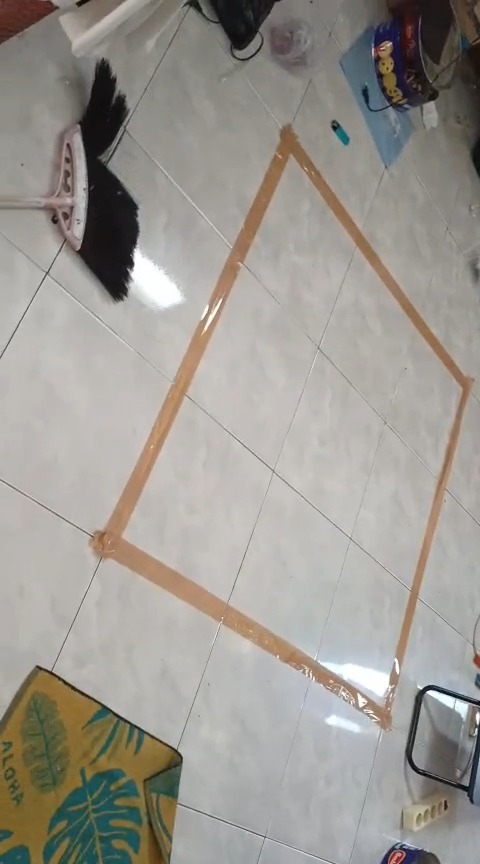floor marking: (92, 127, 473, 729)
